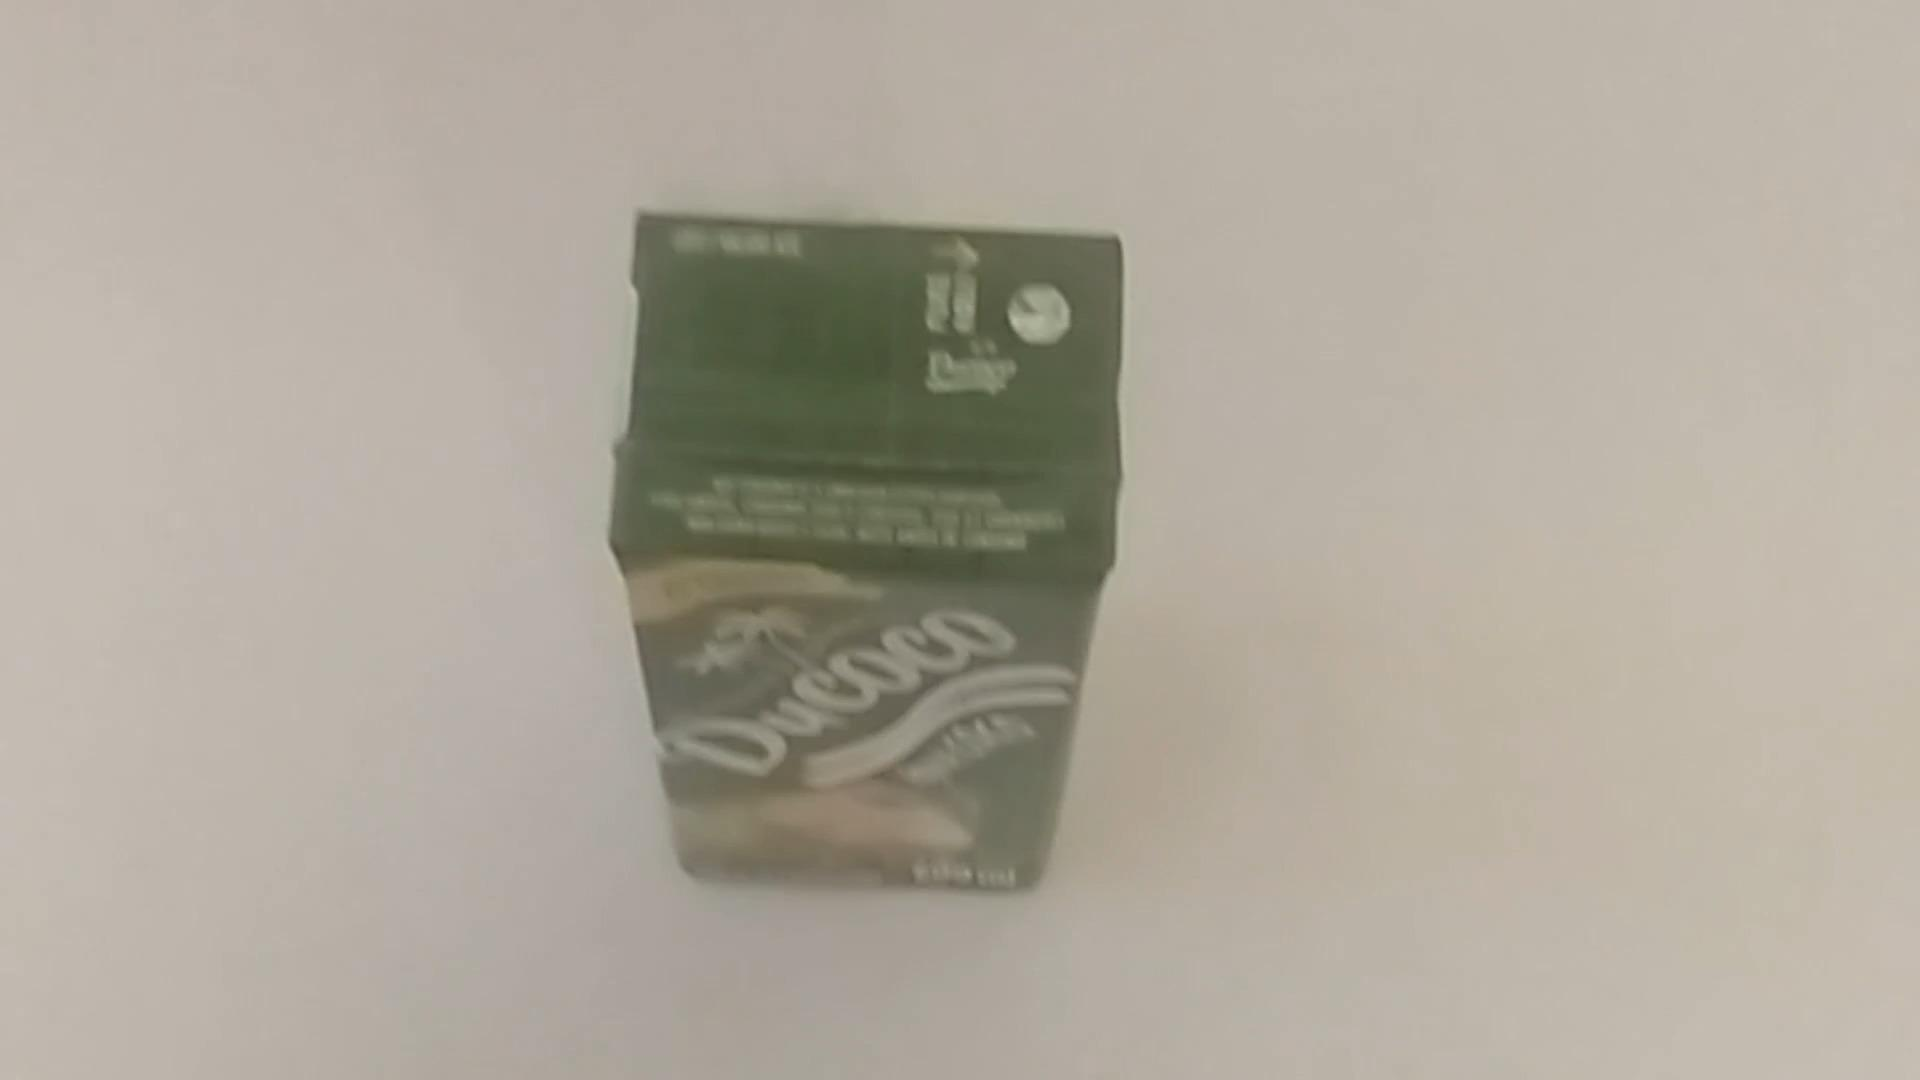coco: (612, 211, 1126, 902)
